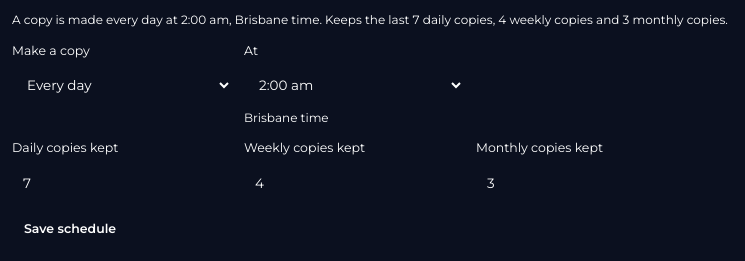
Test: the backup schedule › shows hostd's refusal
This screenshot has width=745, height=261.
Click the button "Save schedule" at (70, 230), box [12, 214, 128, 245]
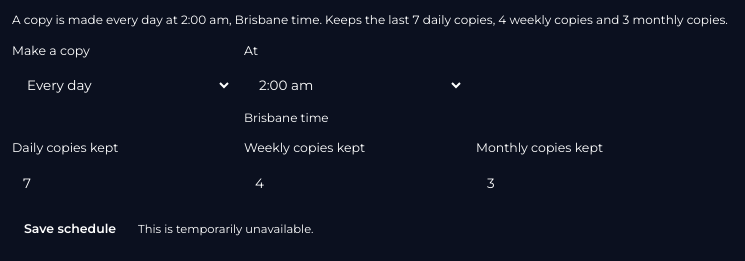
Result: the text "This is temporarily unavailable." is shown at [138, 221, 314, 238]
